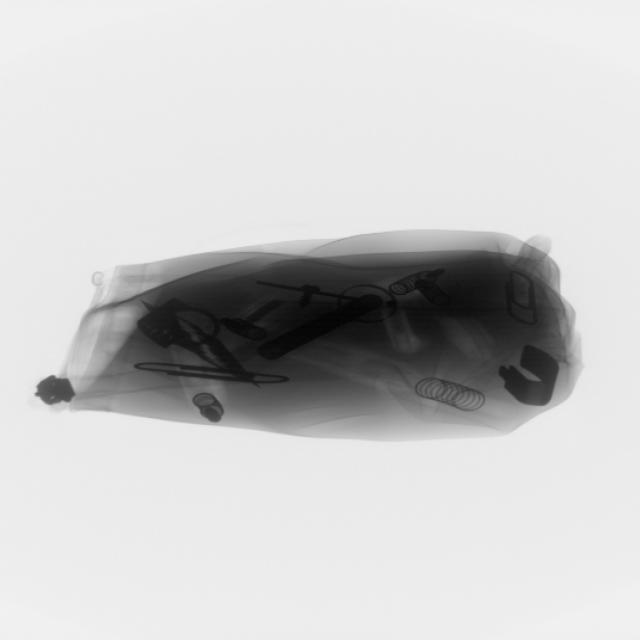GUN: (298, 294, 389, 332)
